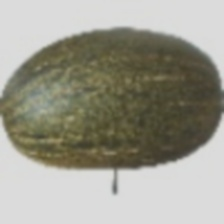honeydew: (41, 15, 213, 169)
